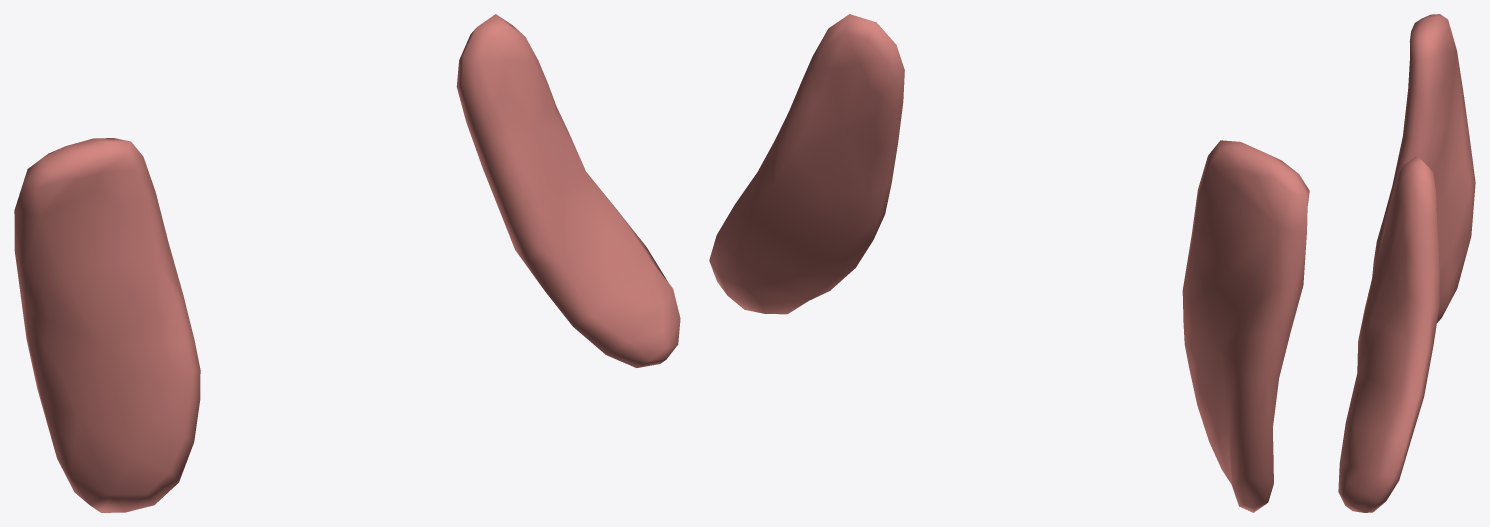
The picture shows the model from 3 angles, left to right: view 1: azimuth 30°, elevation 25°; view 2: azimuth 150°, elevation 25°; view 3: azimuth 270°, elevation 25°; orthographic projection. The views are drawn at different scales.
Parts seen in each view (by area): view 1: ZA_7f526f3f25a4cd5f; view 2: ZA_7f526f3f25a4cd5f; view 3: ZA_7f526f3f25a4cd5f.
Boxes of the visible parts, x1,y1,x2,y2 form: ZA_7f526f3f25a4cd5f: (14, 14, 680, 512); ZA_7f526f3f25a4cd5f: (709, 14, 1309, 512); ZA_7f526f3f25a4cd5f: (1338, 14, 1475, 512).
Size of the model in its own units: 0.00782 by 0.00479 by 0.00175.
